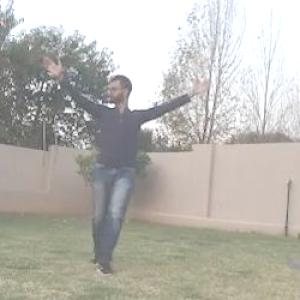takeoff: (32, 44, 209, 266)
